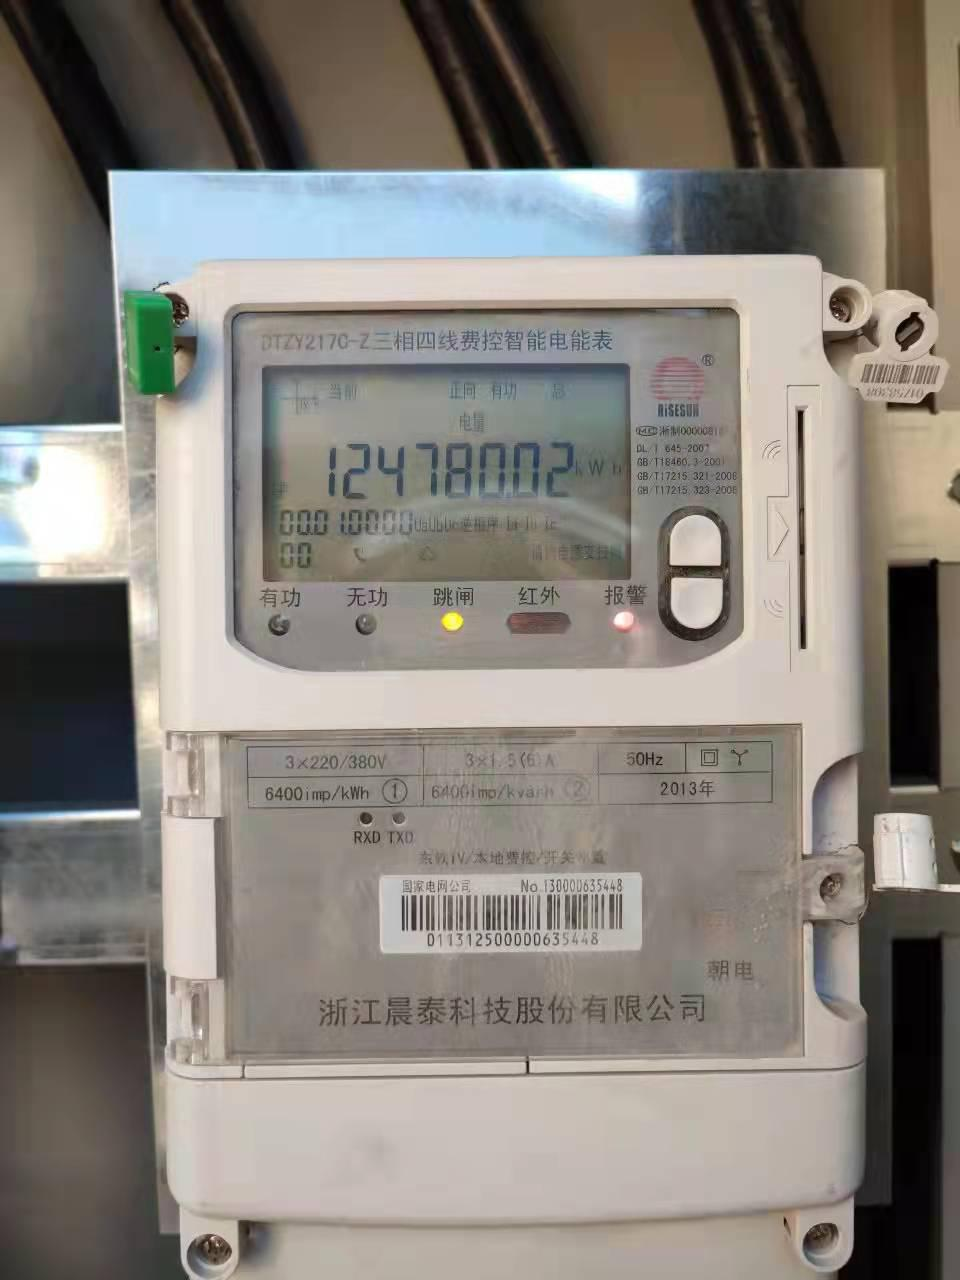digital: (151, 258, 863, 1226)
